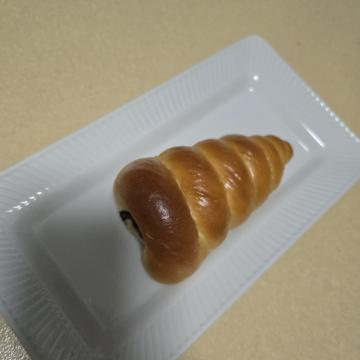cream horn: (102, 49, 296, 263)
